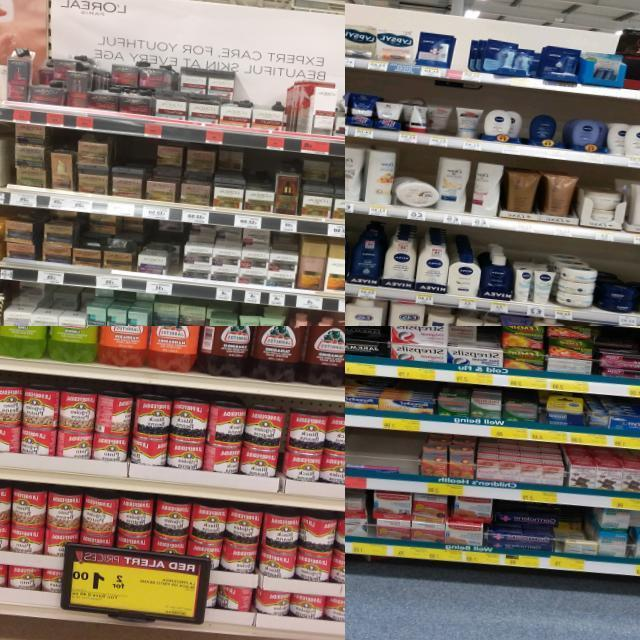Imprecise: (148, 138, 242, 204), (187, 228, 270, 282), (487, 501, 558, 553), (10, 282, 86, 328), (74, 214, 137, 266), (302, 159, 344, 216), (426, 99, 457, 136)
